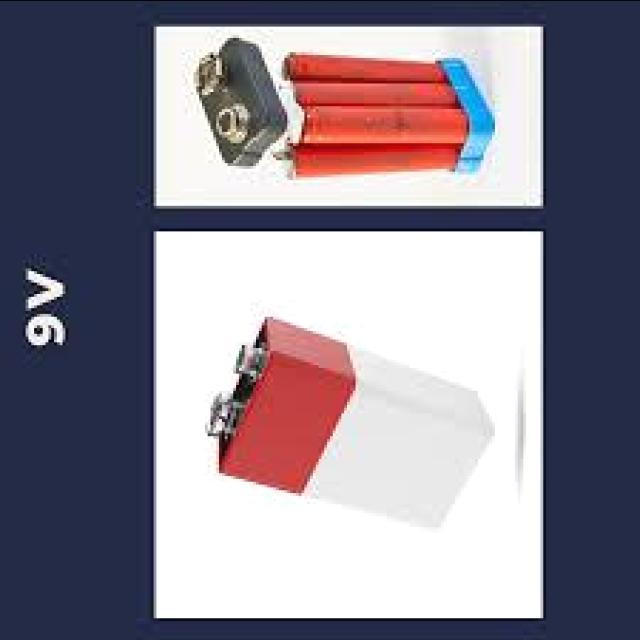9V: (197, 306, 493, 542)
